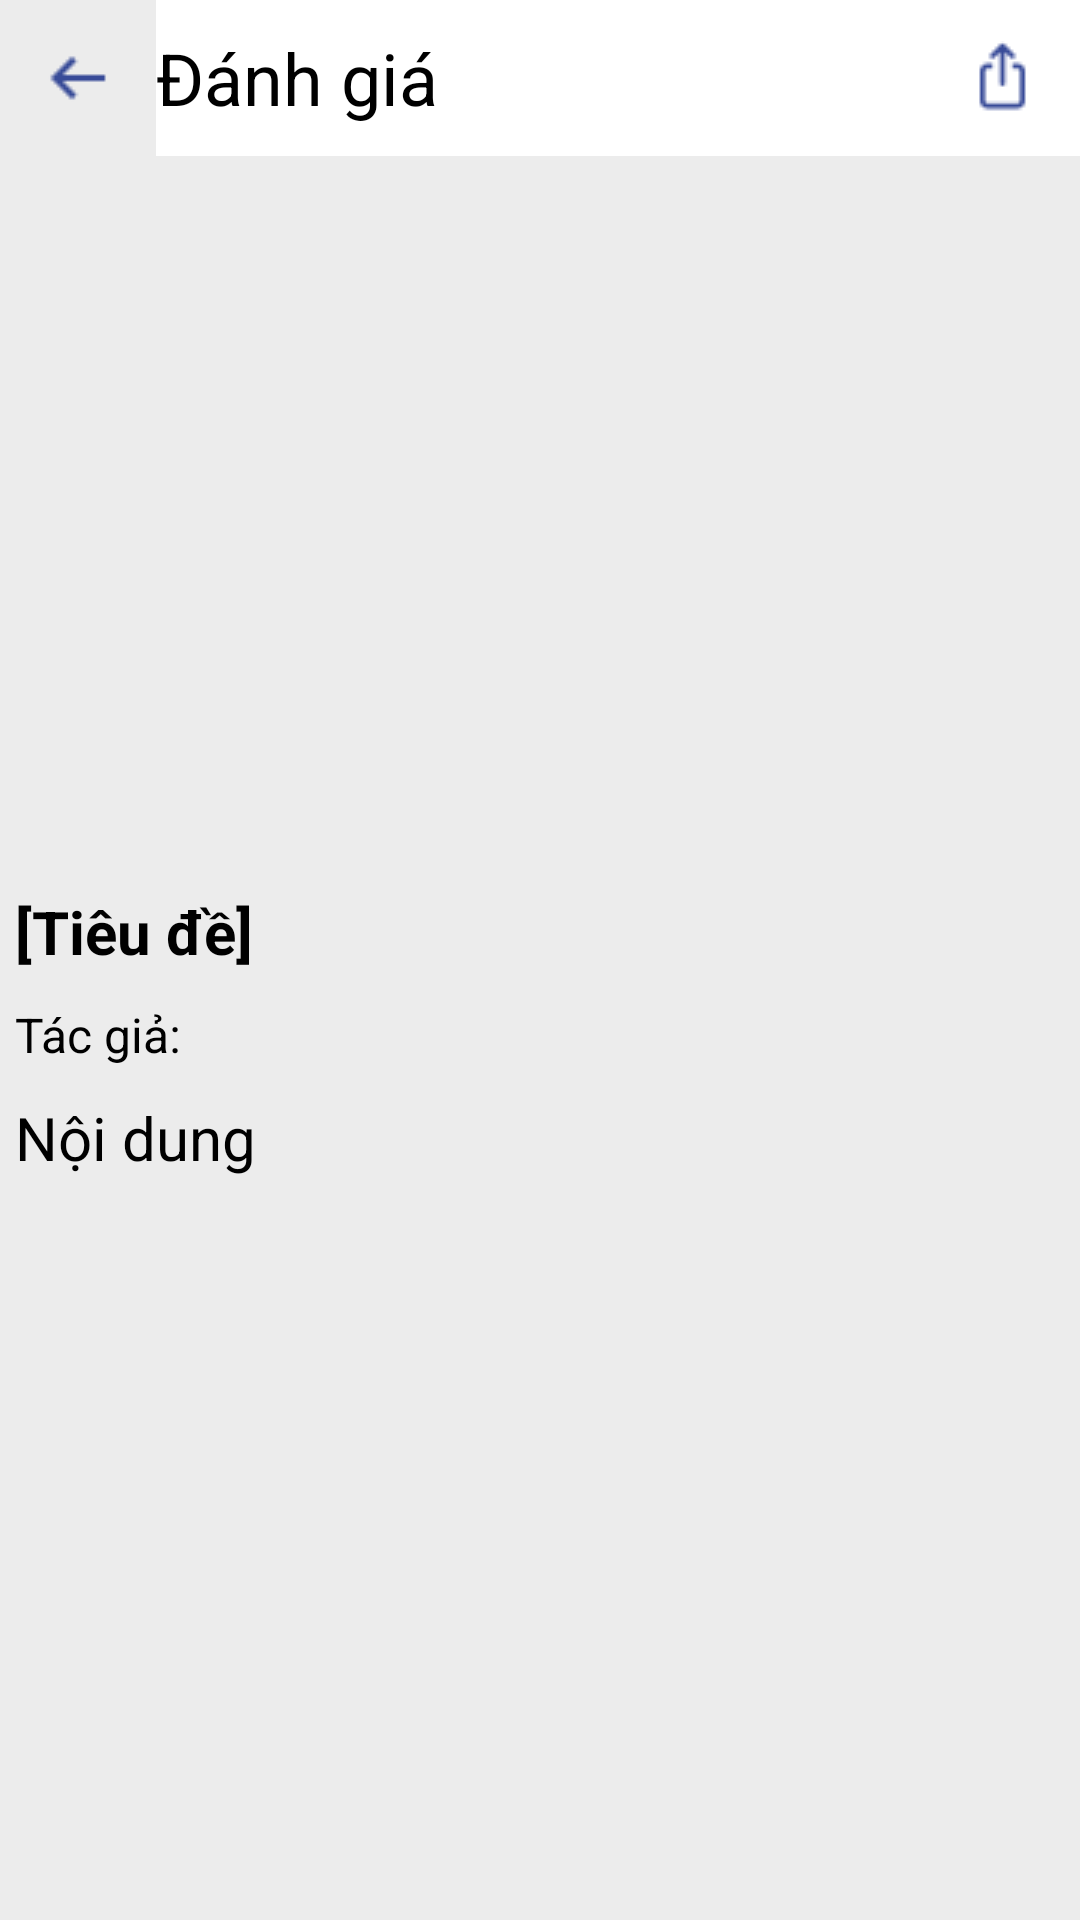

Icon bounding boxes for this 1080 x 1920 phone screenshot, format (x1, y1, x2, y2):
back: (50, 56, 106, 100)
share: (979, 43, 1026, 111)
